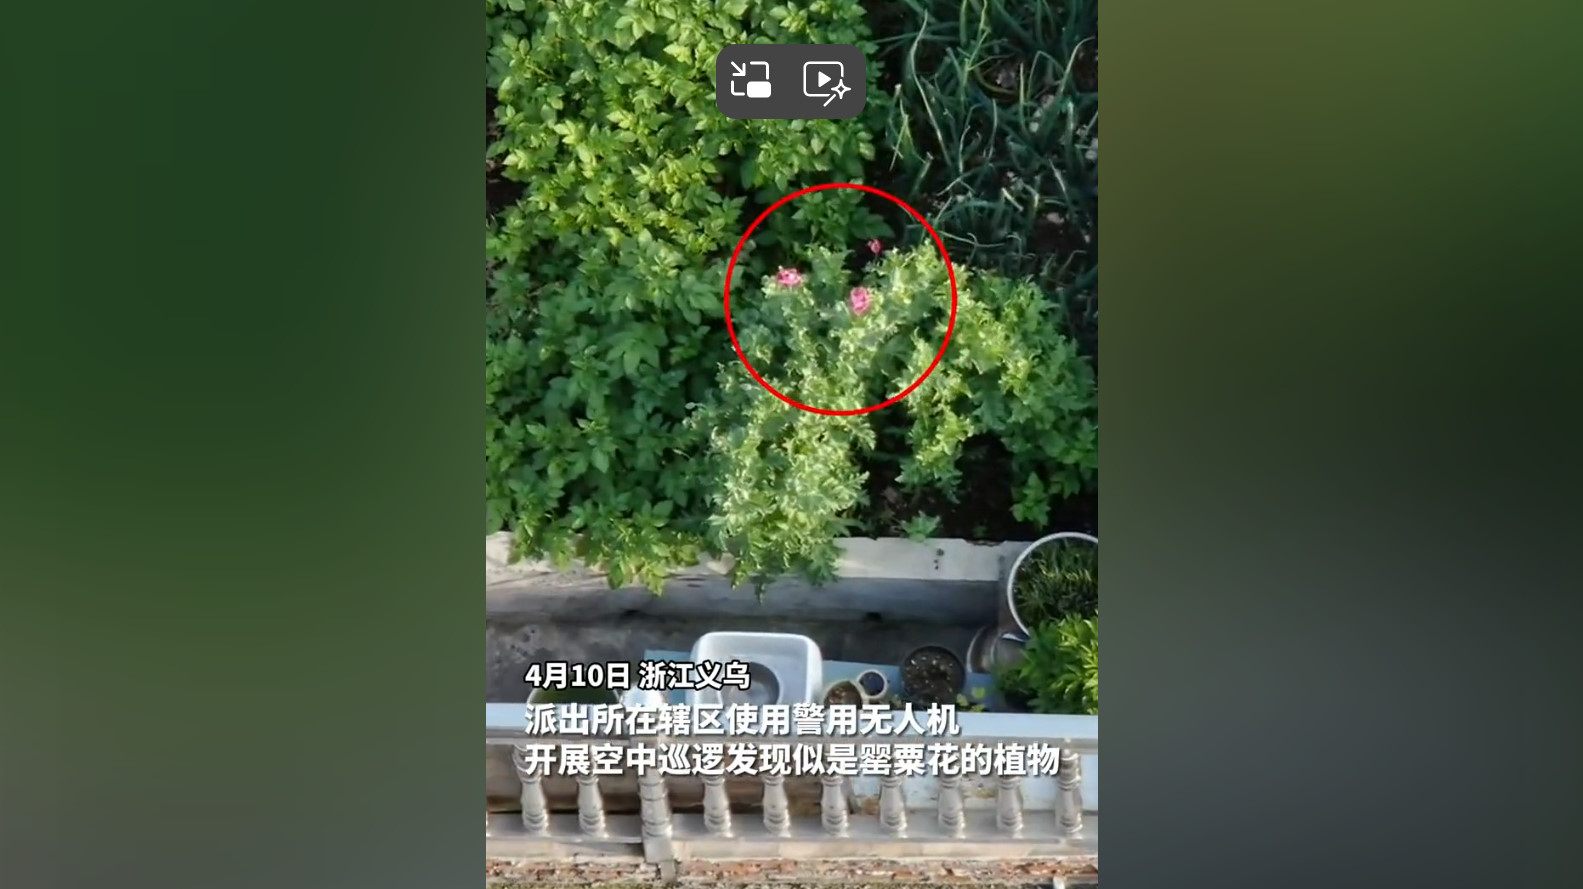Poppy: (723, 218, 1086, 553)
